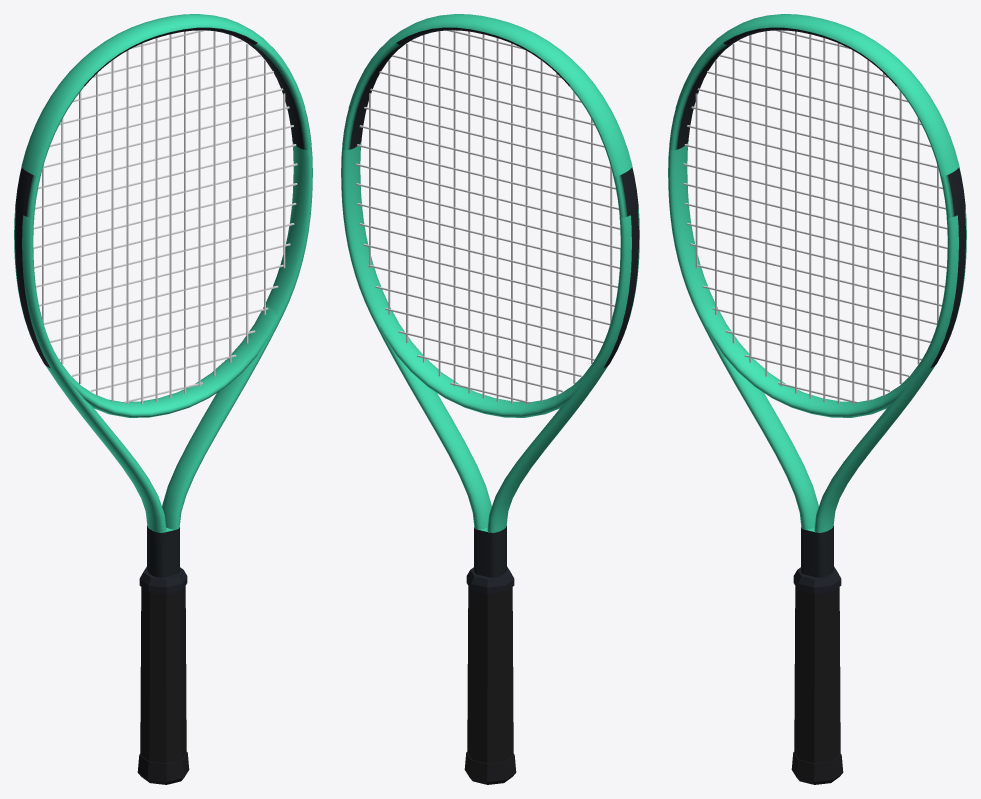
File: head-ig-boom-xceed.glb
The picture shows the model from 3 angles, left to right: view 1: azimuth 30°, elevation 25°; view 2: azimuth 150°, elevation 25°; view 3: azimuth 330°, elevation 25°; orthographic projection.
Visible parts, largest first — view 1: frame, strings_mains, strings_crosses, grip, bumper, grommets, butt_cap, collar; view 2: frame, strings_mains, strings_crosses, grip, bumper, grommets, butt_cap, collar; view 3: frame, strings_mains, strings_crosses, grip, bumper, grommets, butt_cap, collar.
Boxes of the visible parts, box(x1,y1,x2,y2) form: frame: box(14, 27, 312, 577); strings_mains: box(42, 30, 285, 404); strings_crosses: box(33, 30, 297, 403); grip: box(140, 586, 186, 763); bumper: box(21, 14, 305, 176); grommets: box(15, 168, 50, 367); butt_cap: box(137, 752, 189, 784); collar: box(139, 566, 187, 594); frame: box(341, 27, 639, 577); strings_mains: box(369, 30, 612, 403); strings_crosses: box(356, 30, 620, 403); grip: box(467, 586, 513, 763); bumper: box(348, 14, 632, 176); grommets: box(603, 168, 638, 367); butt_cap: box(464, 752, 516, 784); collar: box(466, 566, 514, 594); frame: box(668, 27, 966, 577); strings_mains: box(695, 30, 938, 404); strings_crosses: box(683, 30, 947, 403); grip: box(794, 586, 840, 763); bumper: box(675, 14, 959, 176); grommets: box(930, 168, 965, 367); butt_cap: box(791, 752, 843, 784); collar: box(793, 566, 841, 594).
Size of the model in its own units: 0.2772 by 0.6861 by 0.0396.
